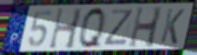5: (26, 9, 53, 48)
H: (47, 6, 84, 51), (127, 5, 164, 49)
K: (158, 8, 186, 46)
Q: (78, 5, 107, 50)
Z: (102, 8, 135, 47)
